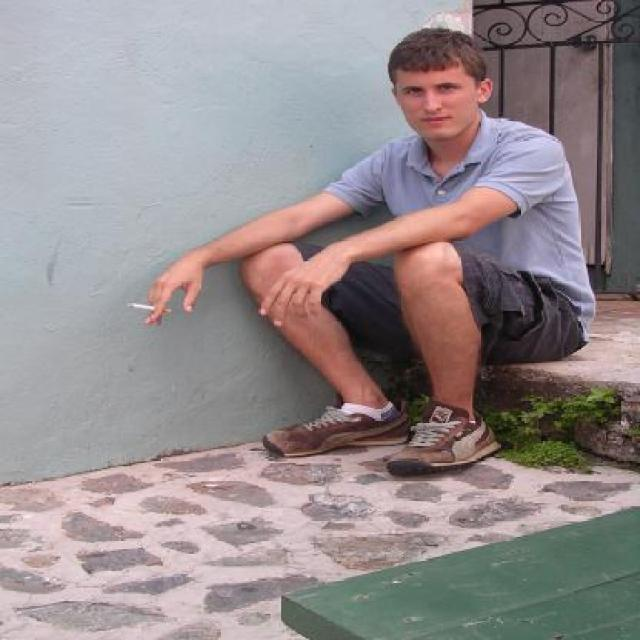smoke: (120, 294, 174, 320)
